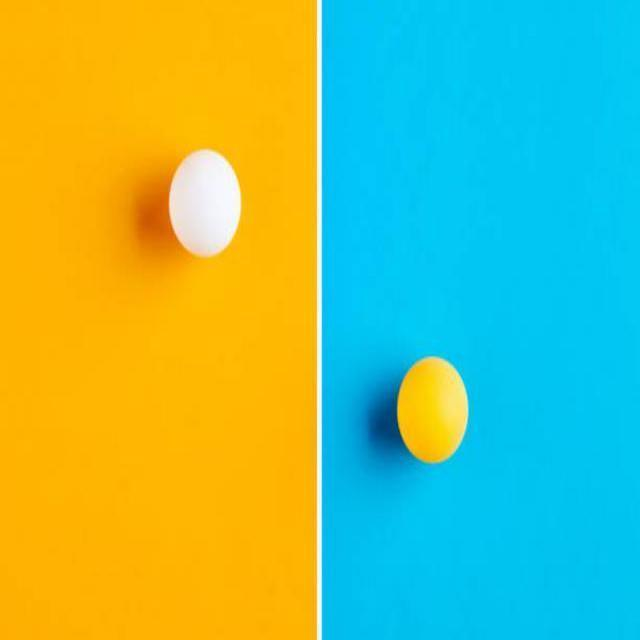ping-pong-ball: (395, 356, 467, 457), (169, 150, 239, 251)
